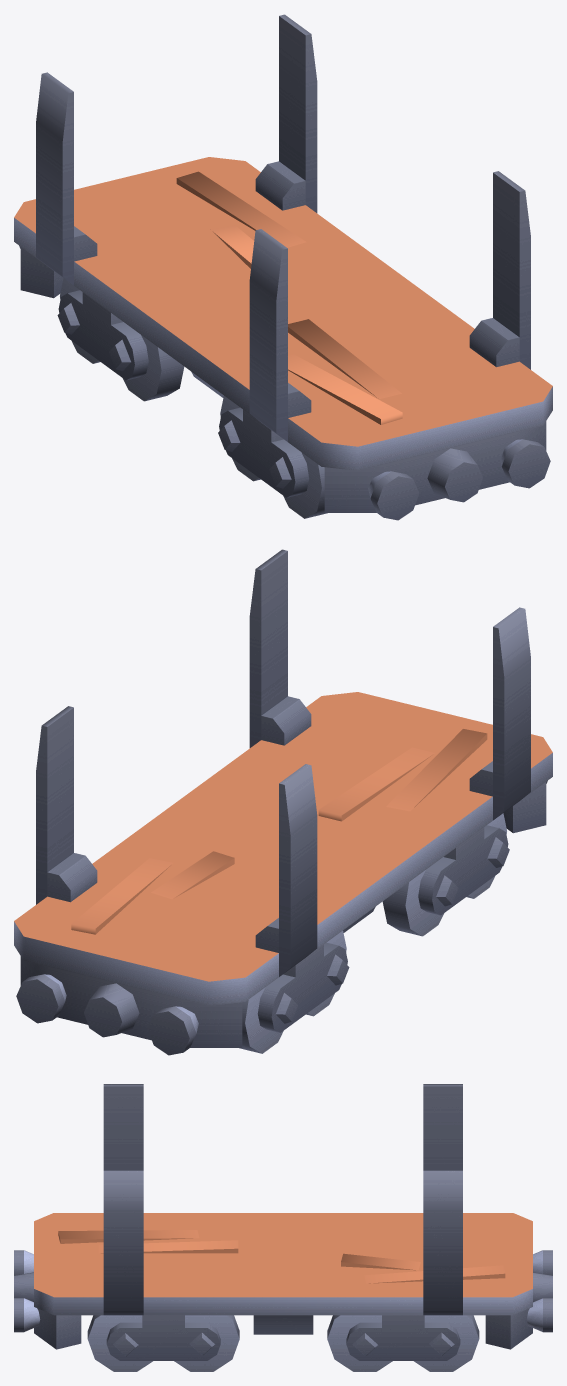
The model's file is train_carriage_flatbed_wood.glb.
3 renders of one model, top to bottom at view 1: azimuth 30°, elevation 25°; view 2: azimuth 150°, elevation 25°; view 3: azimuth 270°, elevation 25°, orthographic. The views are drawn at different scales.
Visible parts, largest first — view 1: train-carriage-flatbed-wood, wheels-back, wheels-front; view 2: train-carriage-flatbed-wood, wheels-front, wheels-back; view 3: train-carriage-flatbed-wood, wheels-front, wheels-back.
Boxes of the visible parts, <box> form: train-carriage-flatbed-wood: <box>14,14,552,520</box>; wheels-back: <box>57,278,184,401</box>; wheels-front: <box>218,396,327,518</box>; train-carriage-flatbed-wood: <box>14,549,552,1055</box>; wheels-front: <box>382,813,509,936</box>; wheels-back: <box>239,931,349,1053</box>; train-carriage-flatbed-wood: <box>14,1084,552,1349</box>; wheels-front: <box>87,1315,239,1371</box>; wheels-back: <box>327,1315,479,1371</box>.
Bounding box in the file's own units: 1.1 × 1.16 × 2.7.
1 material, 1 textured.
